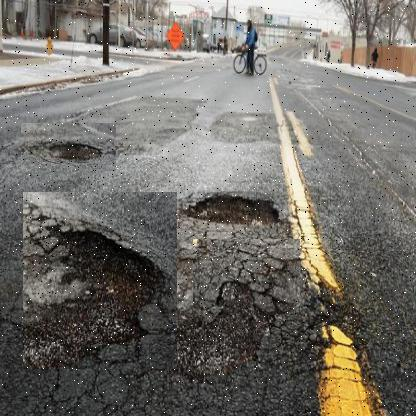crack: (192, 239, 300, 316)
damage: (22, 192, 177, 370)
pothole: (177, 179, 291, 231), (20, 123, 116, 172)
